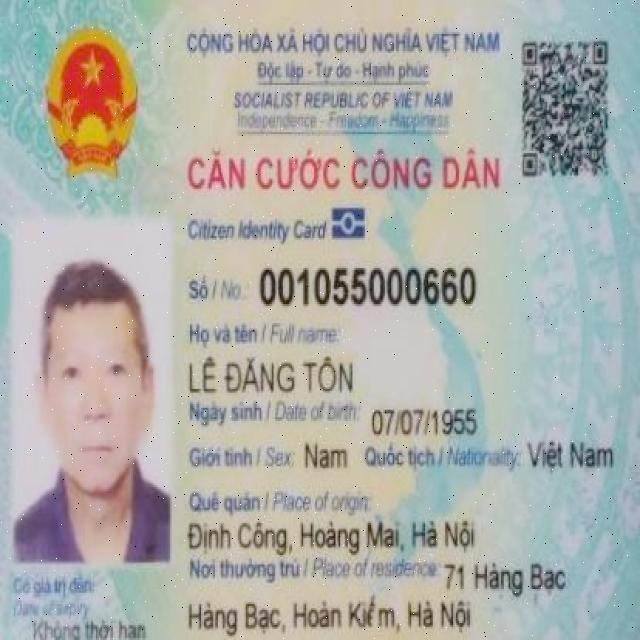current_place: (186, 596, 476, 636), (442, 561, 577, 599)
dob: (371, 404, 483, 439)
expire_date: (34, 615, 149, 640)
gender: (303, 440, 347, 472)
id: (258, 260, 481, 312)
name: (184, 346, 359, 400)
nationality: (526, 436, 616, 477)
origin_place: (186, 515, 478, 557)
